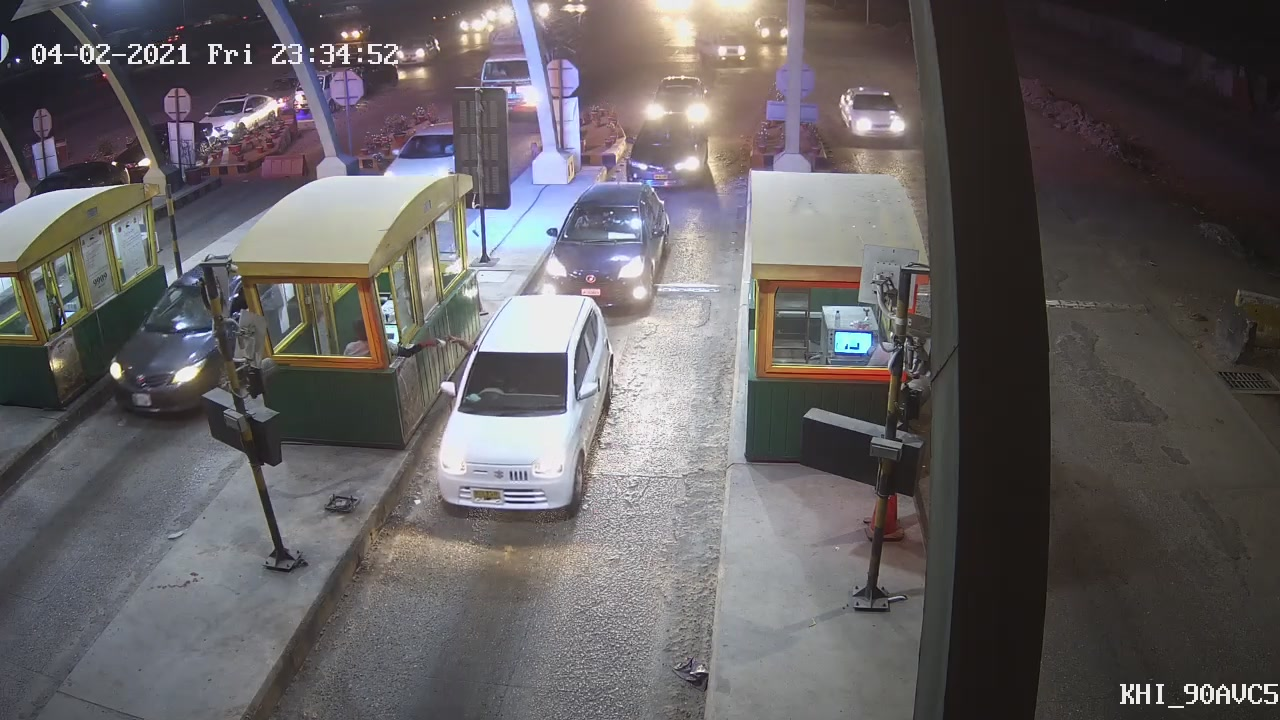F1: (424, 292, 620, 514)
